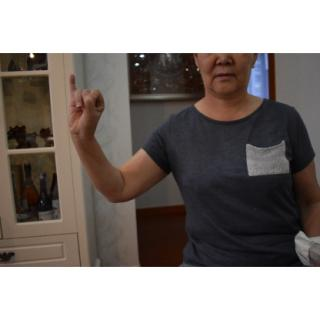MEEM: (65, 71, 105, 141)
